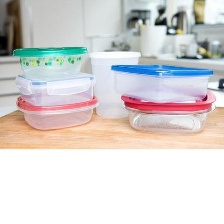plastic_box: (116, 83, 221, 136), (106, 58, 216, 108), (84, 45, 146, 123), (11, 88, 101, 133), (11, 67, 100, 111), (9, 41, 91, 82)
